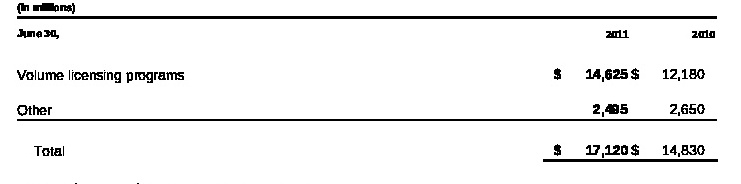table: (0, 0, 741, 184)
